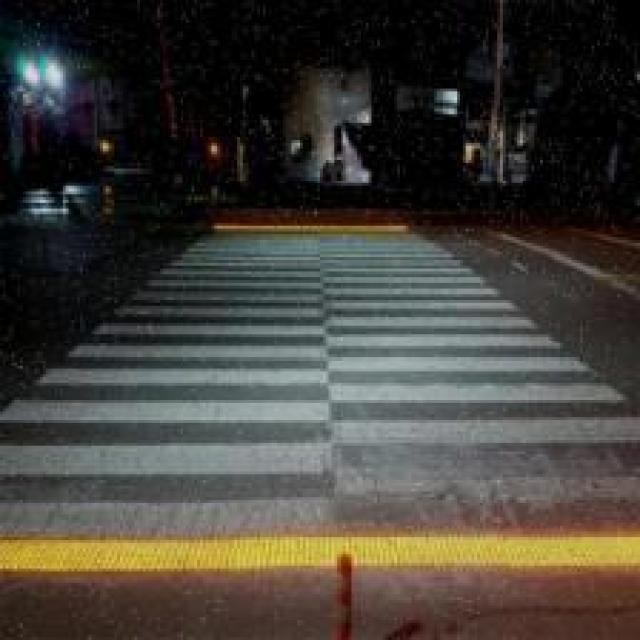crosswalk: (1, 227, 640, 539)
